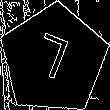L_S: (31, 30, 77, 89)
